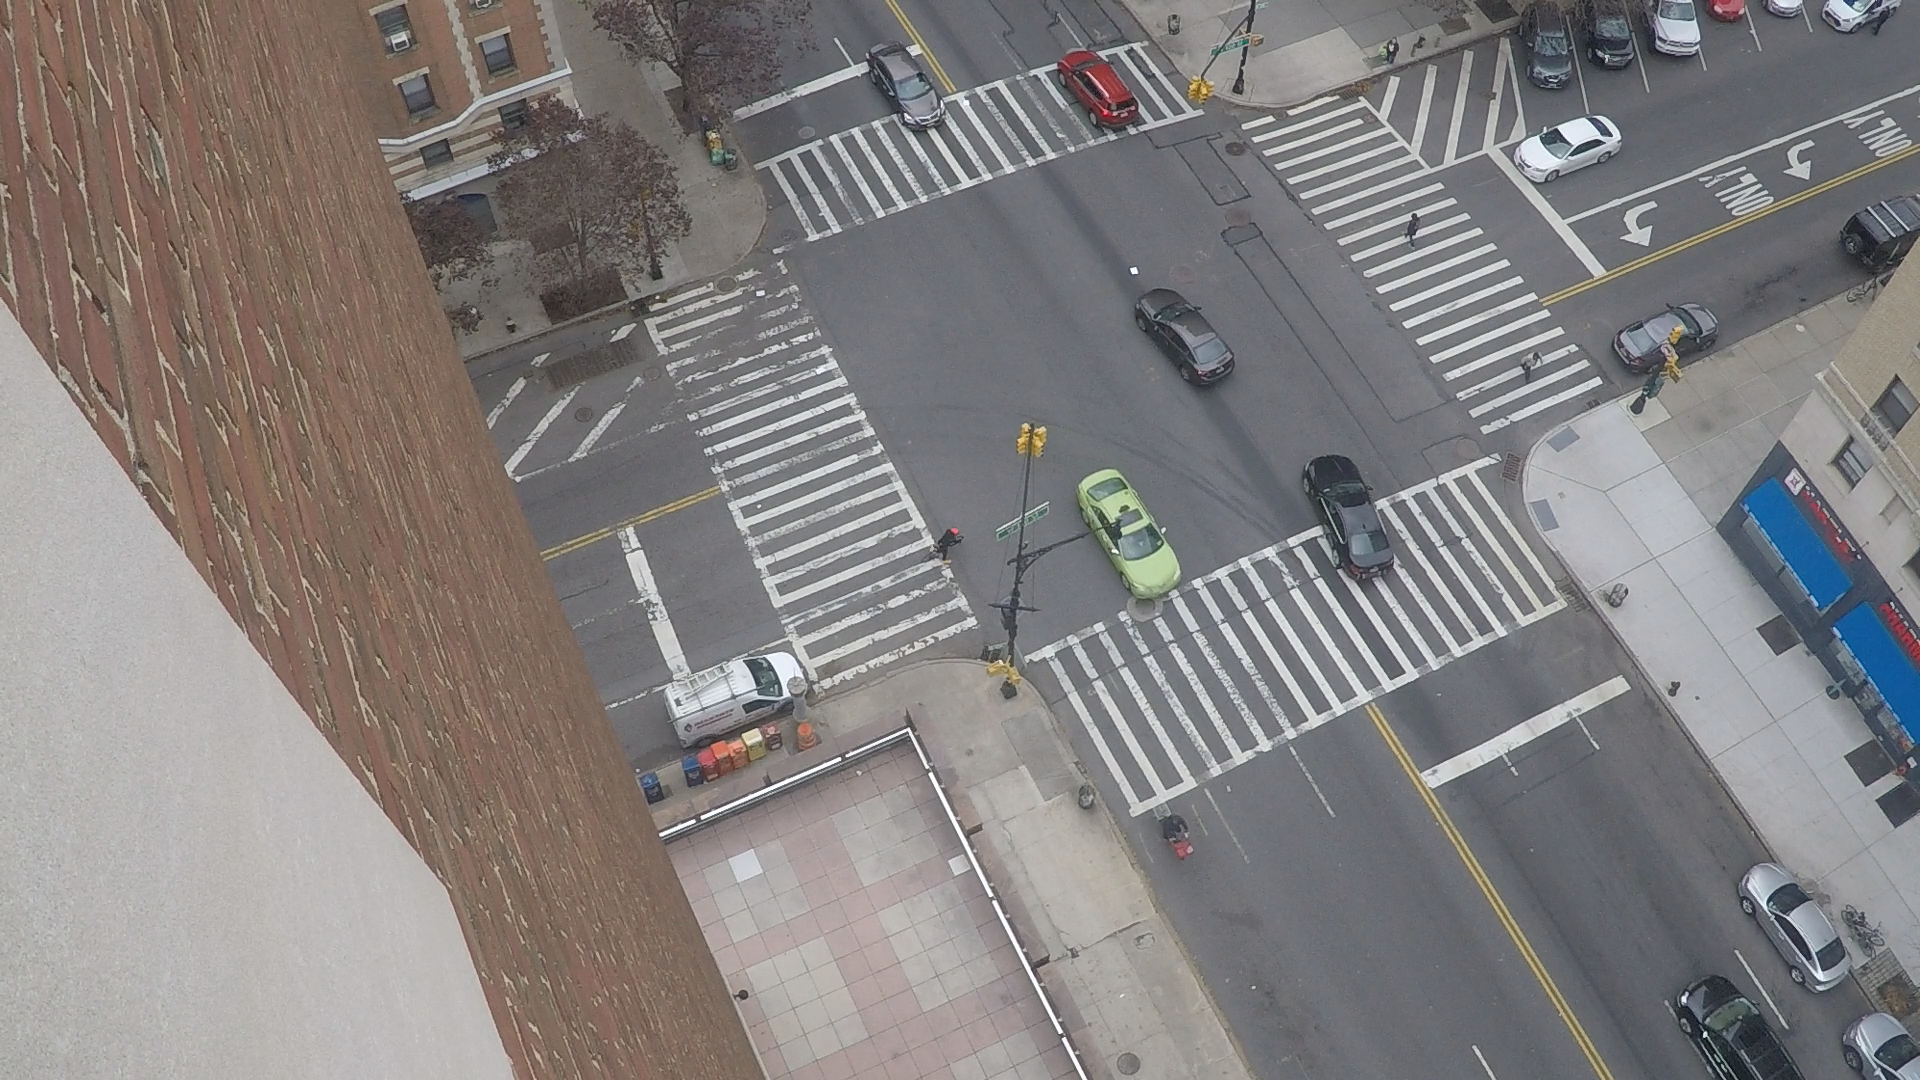Car: (922, 69, 928, 78), (1635, 0, 1636, 18), (1760, 0, 1762, 8)
